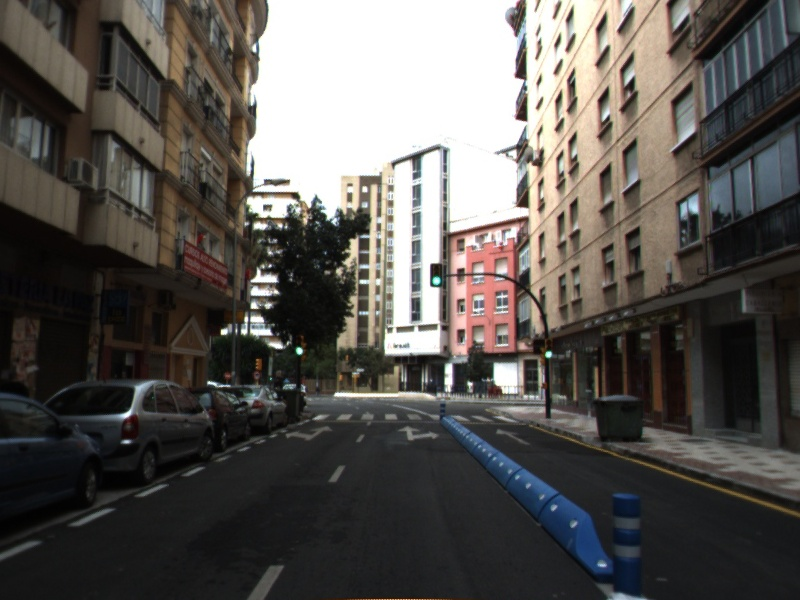STRAIGHT: (494, 427, 533, 447)
STRAIGHT_LEFT: (283, 424, 336, 443)
STRAIGHT_RIGHT: (396, 423, 442, 442)
